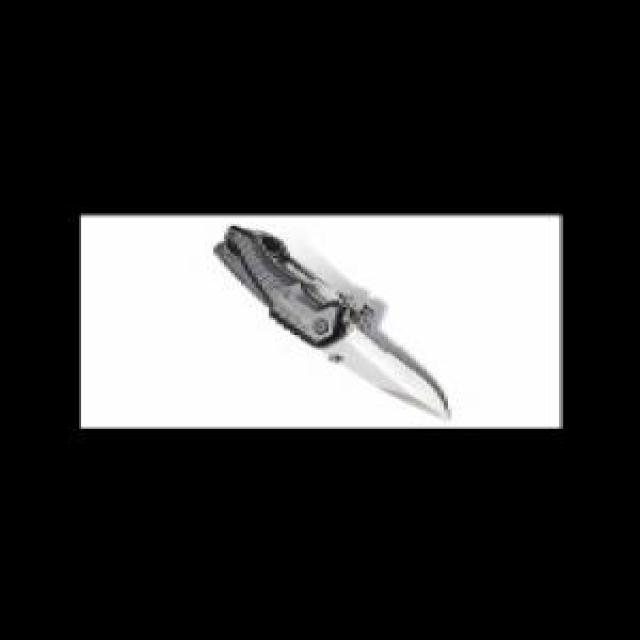knife: (207, 215, 463, 426)
